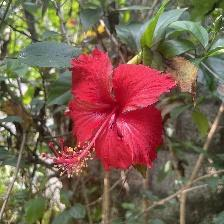hibiscus: (33, 47, 181, 189)
